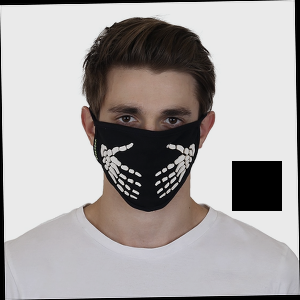with_mask: (93, 95, 201, 212)
